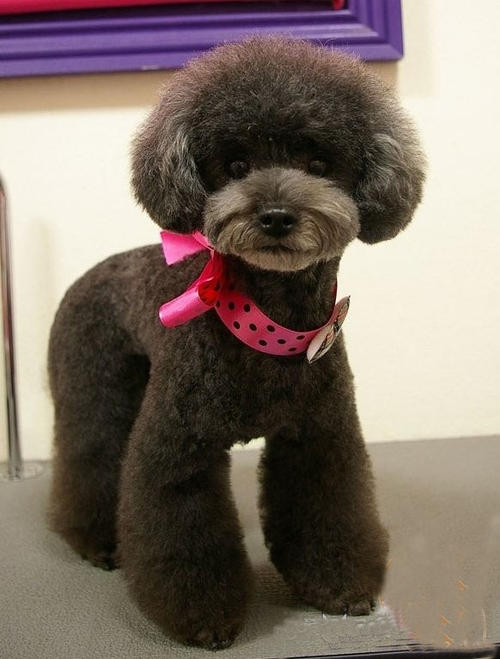dog: (106, 26, 450, 306)
